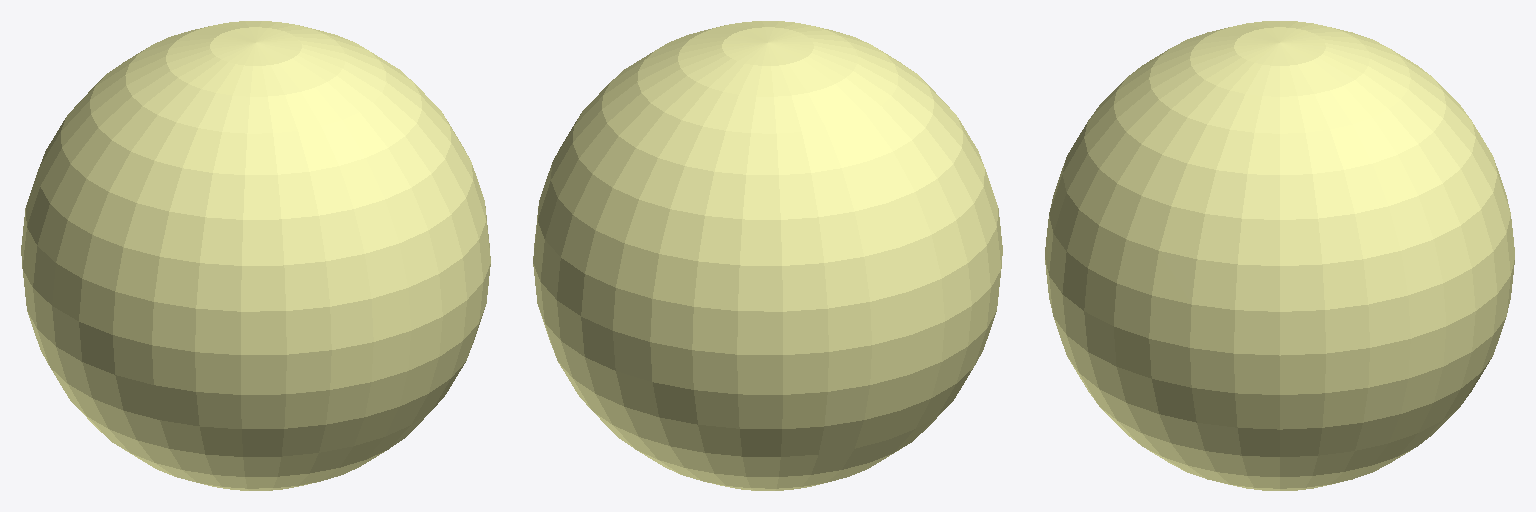
The picture shows the model from 3 angles: view 1: azimuth 30°, elevation 25°; view 2: azimuth 150°, elevation 25°; view 3: azimuth 270°, elevation 25°; orthographic projection.
Visible parts, largest first — view 1: Sphere; view 2: Sphere; view 3: Sphere.
Part boxes in pixels (x1,y1,x2,y2): Sphere: (21, 21, 490, 490); Sphere: (533, 21, 1002, 490); Sphere: (1045, 21, 1514, 490).
Size of the model in its own units: 2 by 2 by 2.
Materials: 1 (1 with a texture image).